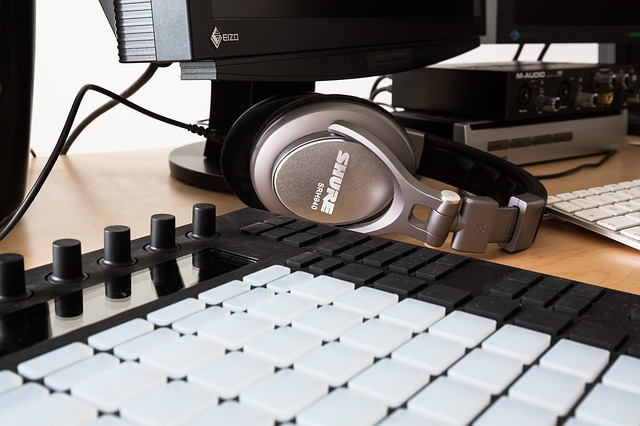headphones: (221, 92, 548, 253)
